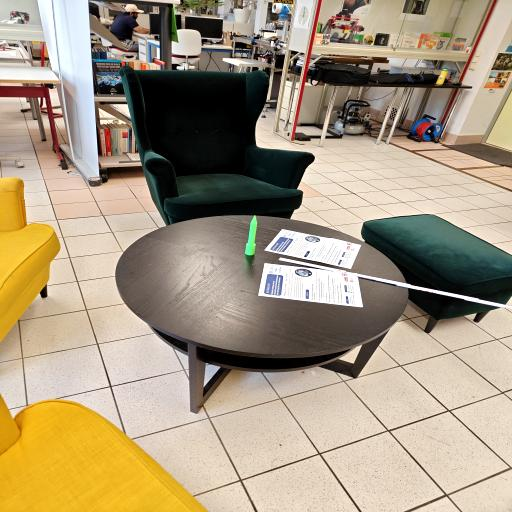Probe-Detection: (245, 215, 257, 255)
